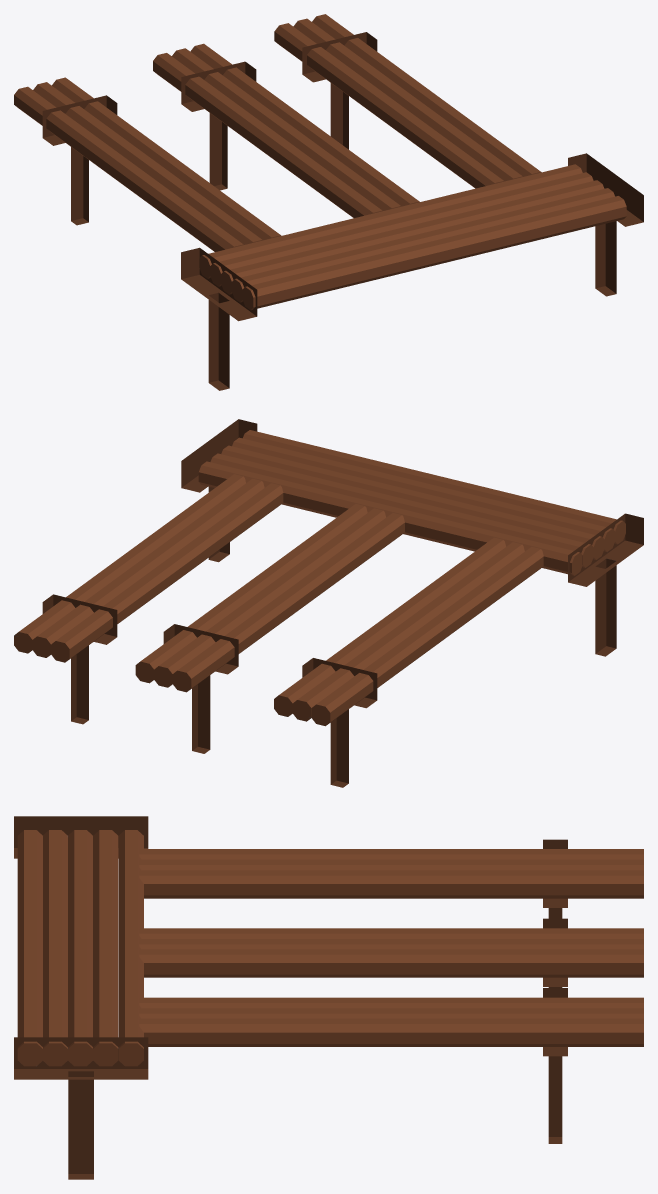
Rendered from Docks.fbx.
3 renders of one model, top to bottom at view 1: azimuth 30°, elevation 25°; view 2: azimuth 150°, elevation 25°; view 3: azimuth 270°, elevation 25°, orthographic. The views are drawn at different scales.
Visible parts, largest first — view 1: Cube; view 2: Cube; view 3: Cube.
Boxes of the visible parts, x1=… form: Cube: x1=14, y1=14, x2=643, y2=390; Cube: x1=14, y1=419, x2=643, y2=787; Cube: x1=14, y1=816, x2=643, y2=1179.
Bounding box in the file's own units: 4337 × 1172 × 4986.
